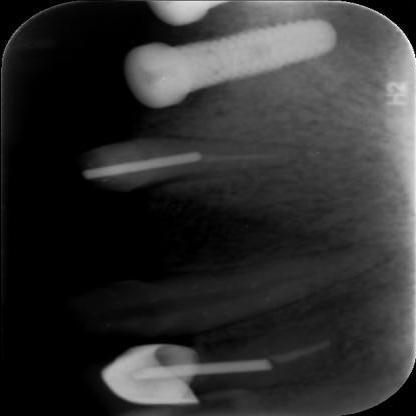Bego: (107, 6, 356, 123)
